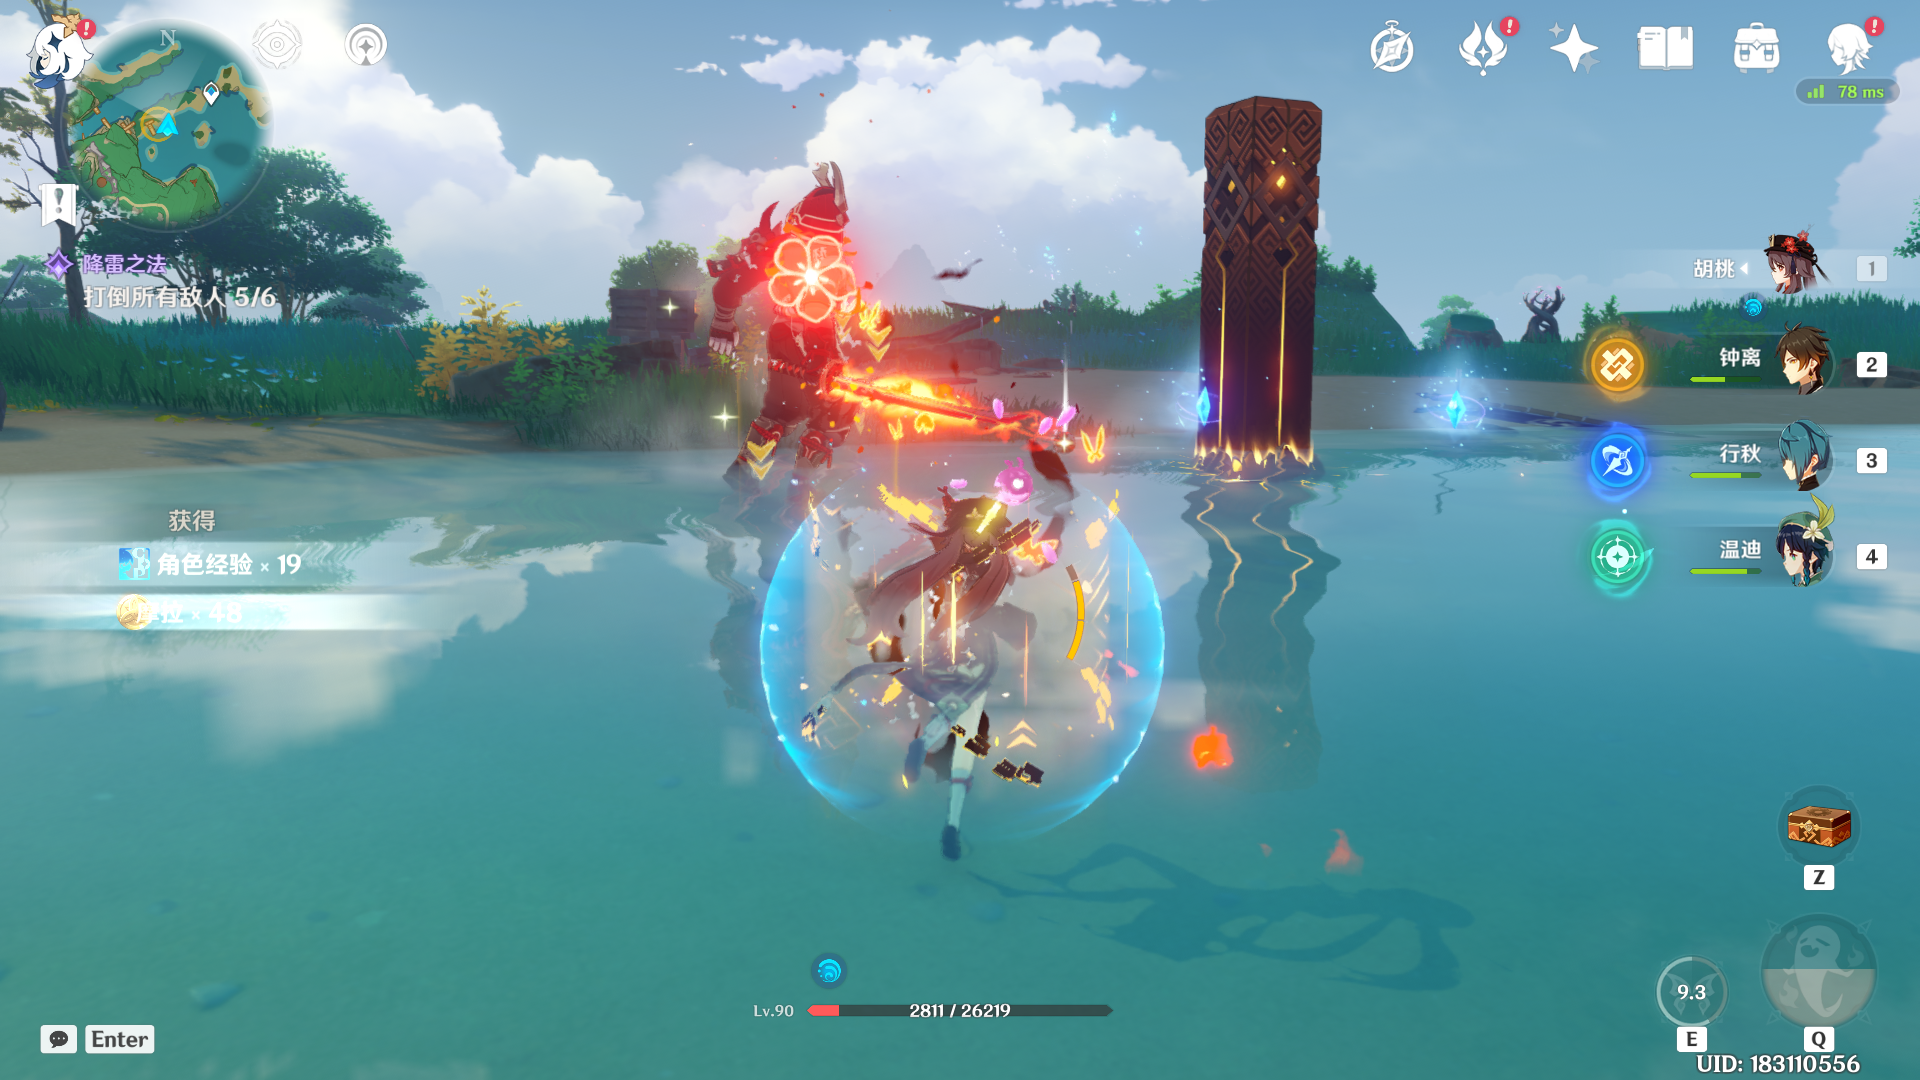character: (819, 467, 1083, 895)
samurai: (669, 135, 976, 514)
